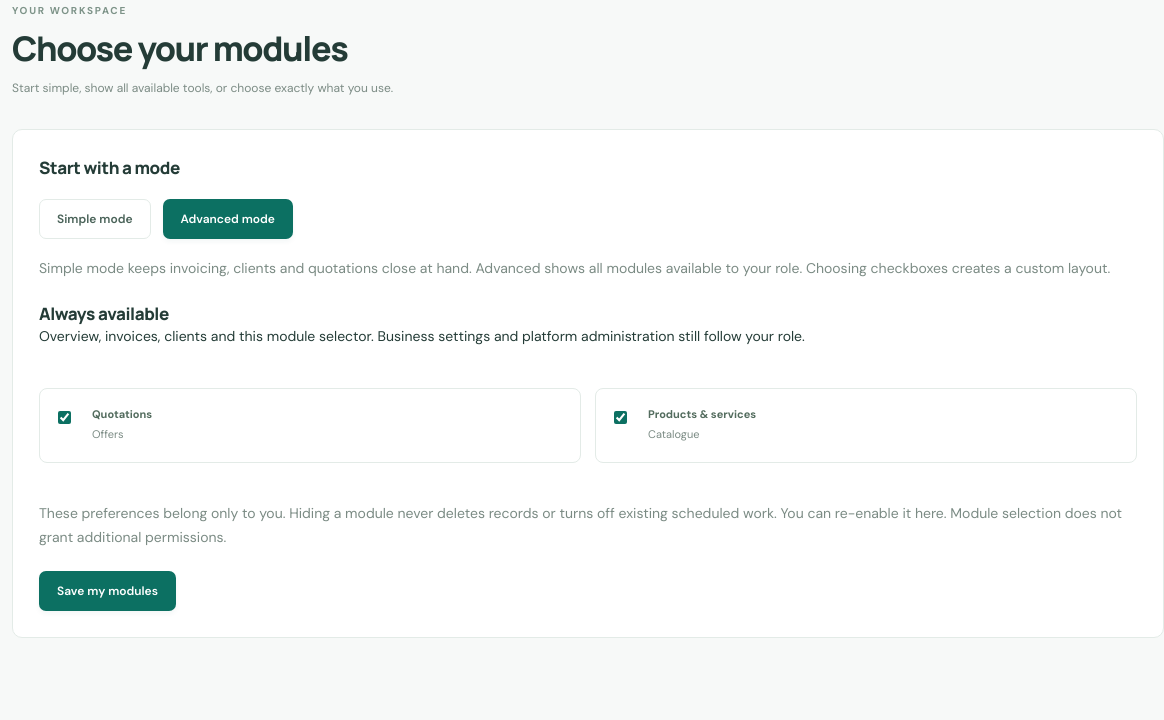
Test: applies a preset and saves user-specific choices
Click the button "Simple mode" at (95, 219), box [39,199,150,239]
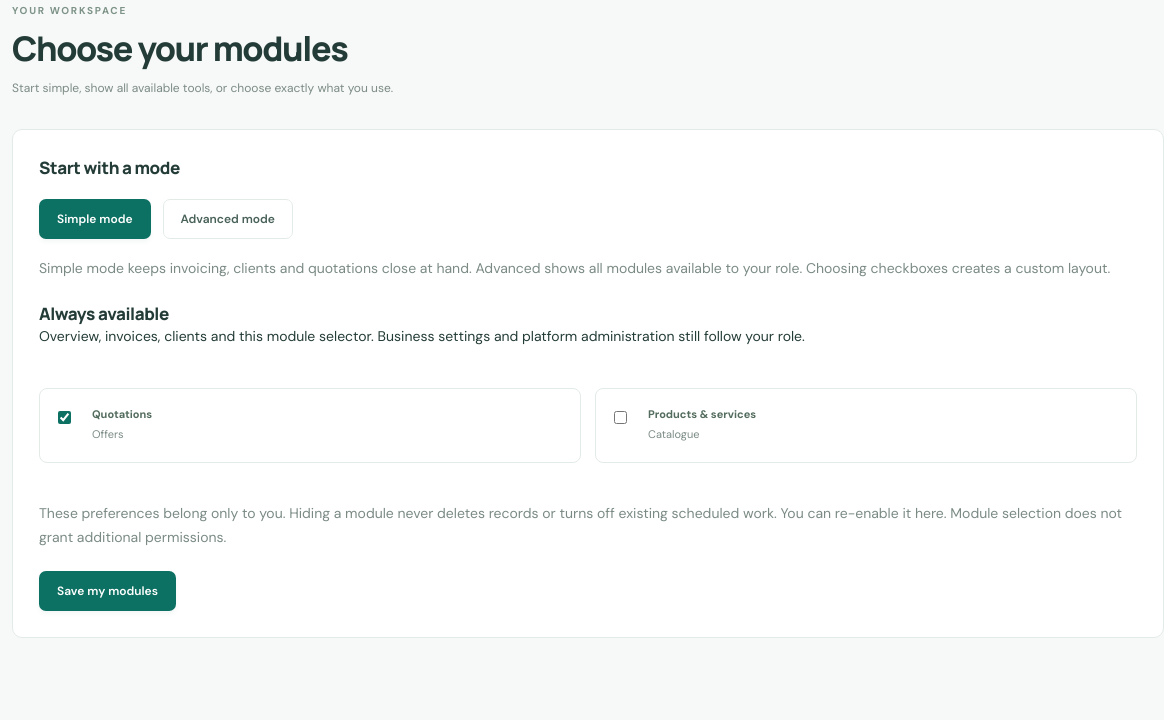
Submit the form
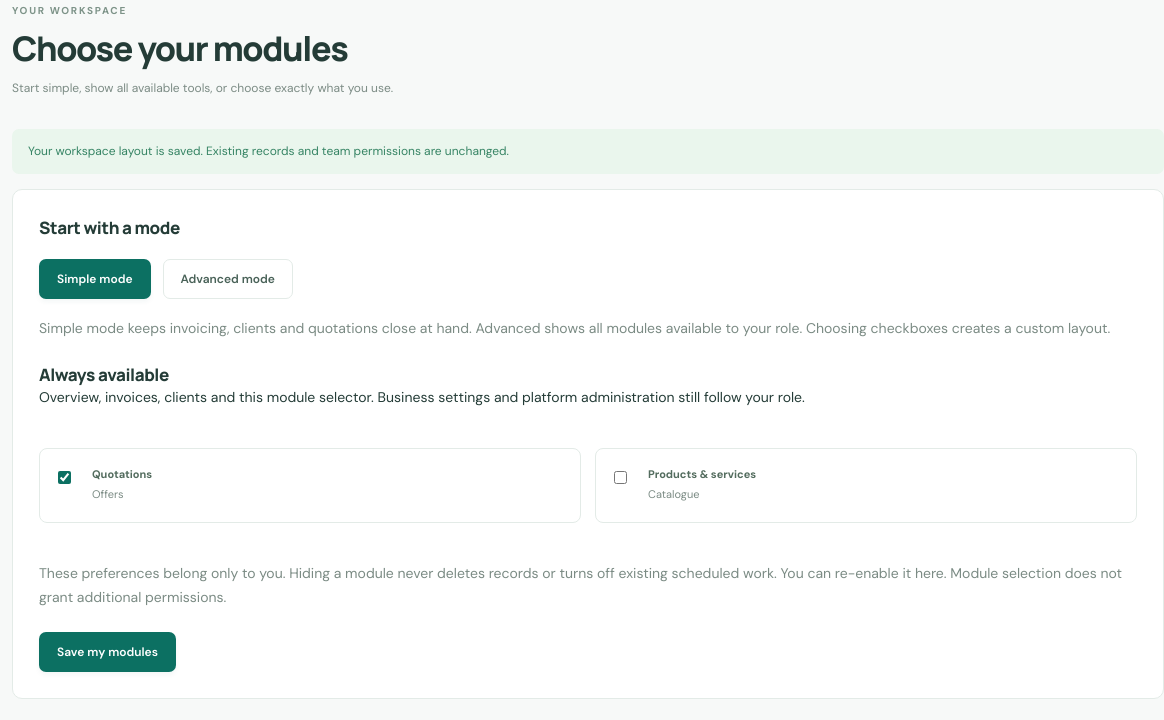
Click the checkbox labelled "Products & services Catalogue" at (620, 478), box [614,470,627,485]
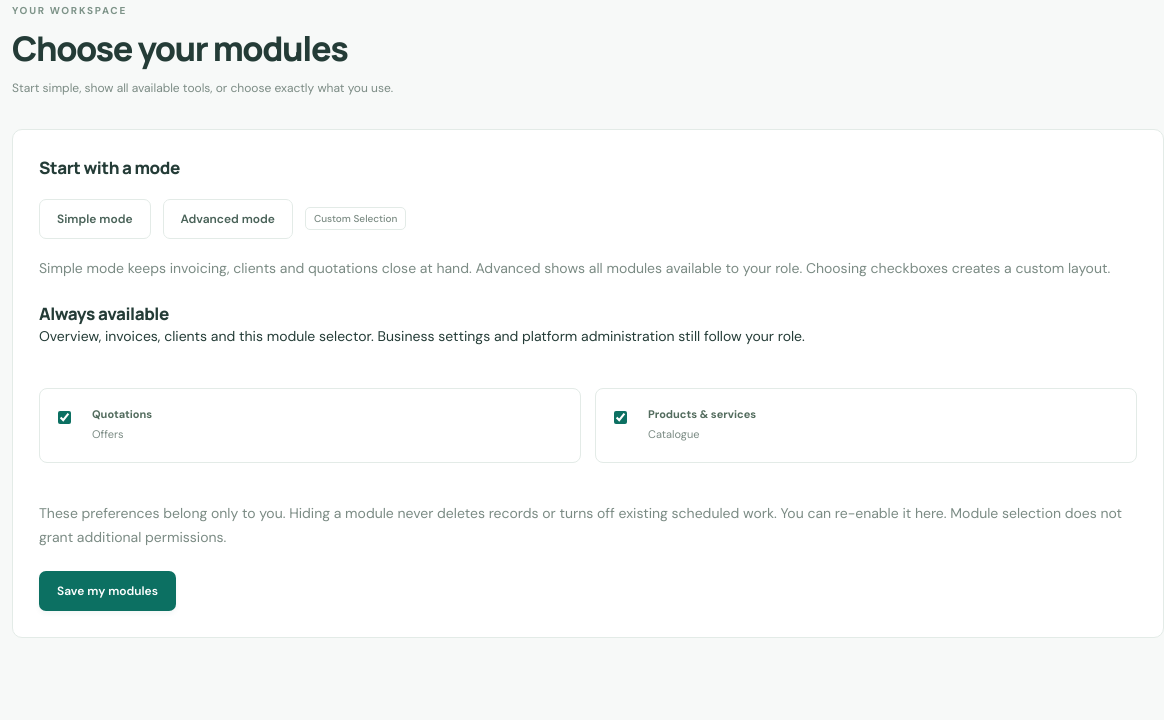
Expected: the text "Custom selection" is shown, [305,207,406,230]
Submit the form
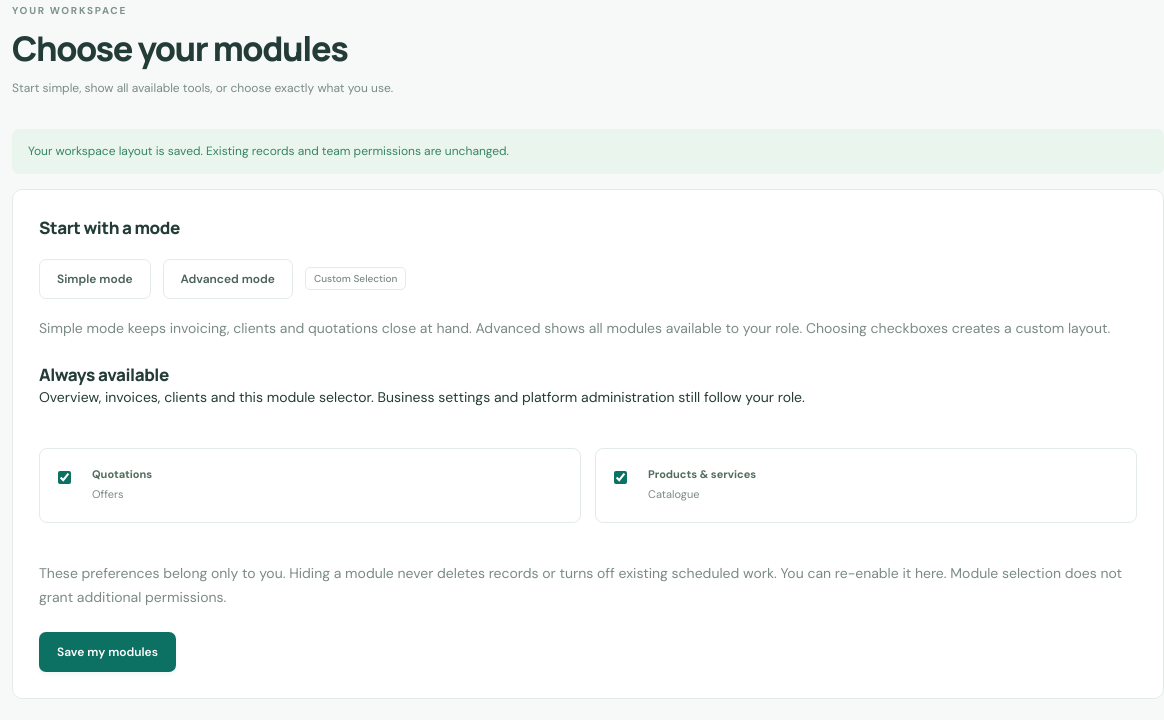
Expected: the text "Existing records and team permissions are unchanged" is shown, [28,143,509,159]
